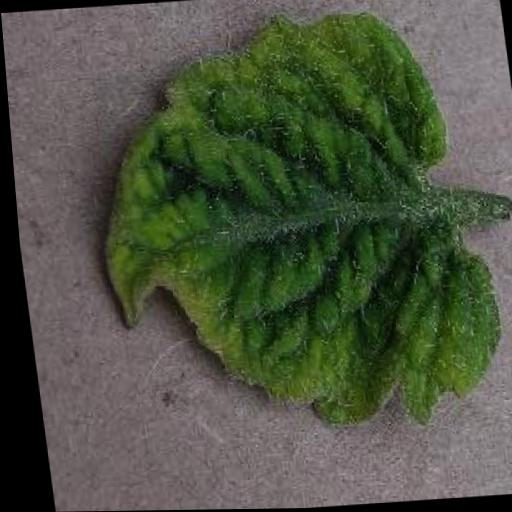Yellow Leaf Curl Virus: (69, 5, 505, 443)
